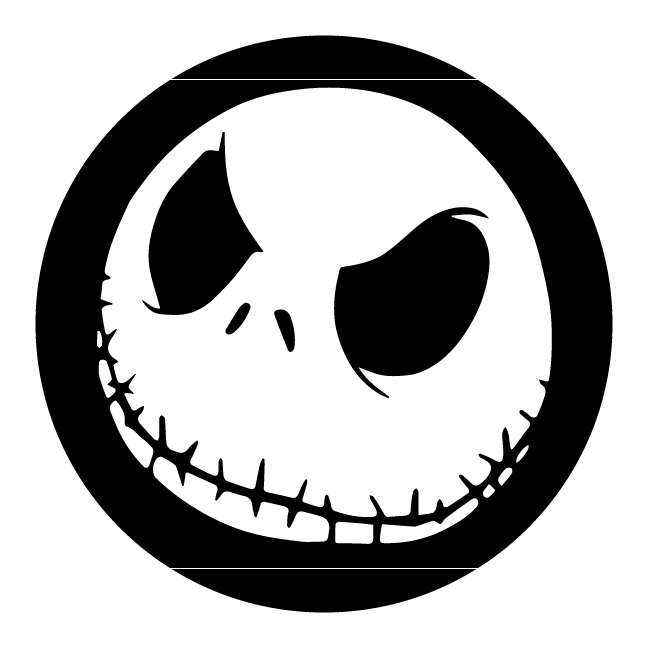Jack Skellington: (93, 84, 557, 546)
